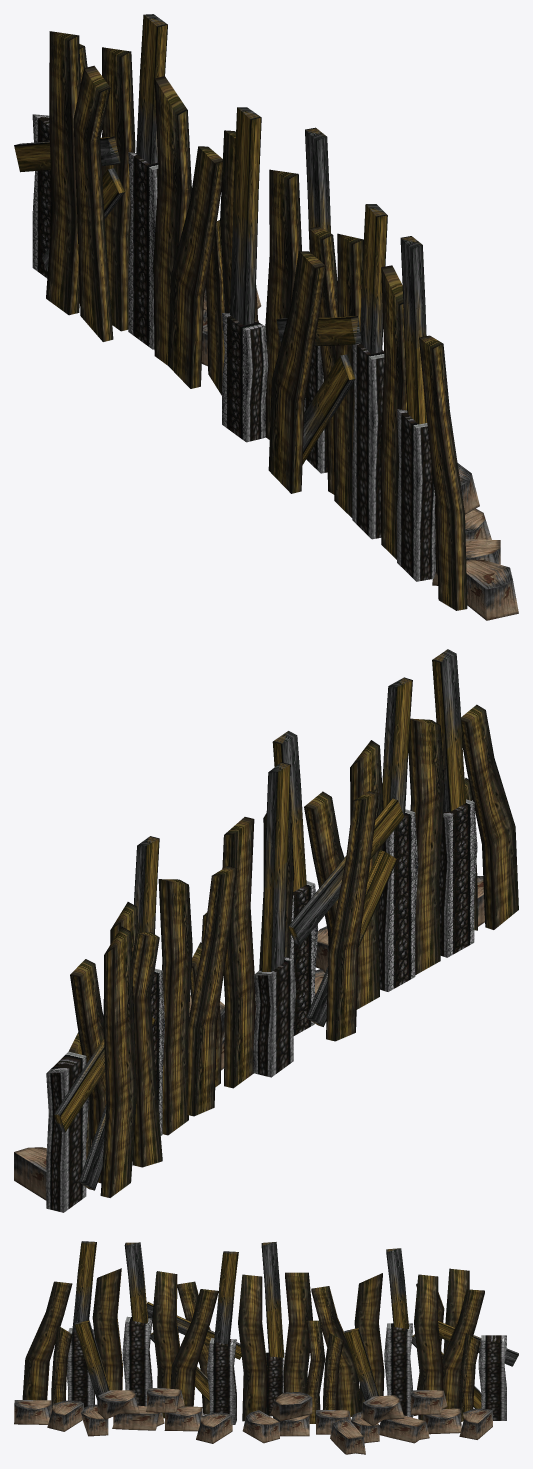
File: CB_BEIORN_WALL_EXPLODE.fbx
3 views of the same model, one above another, from view 1: azimuth 30°, elevation 25°; view 2: azimuth 150°, elevation 25°; view 3: azimuth 270°, elevation 25° (orthographic). The views are drawn at different scales.
Visible parts, largest first — view 1: CB_BEIORN_WALL_EXPLODE; view 2: CB_BEIORN_WALL_EXPLODE; view 3: CB_BEIORN_WALL_EXPLODE.
Boxes of the visible parts, x1,y1,x2,y2 form: CB_BEIORN_WALL_EXPLODE: (14, 14, 518, 620); CB_BEIORN_WALL_EXPLODE: (14, 649, 518, 1212); CB_BEIORN_WALL_EXPLODE: (14, 1241, 518, 1454).
Bounding box in the file's own units: 21457 × 38256 × 99990.
Materials: 4 (4 with a texture image).
